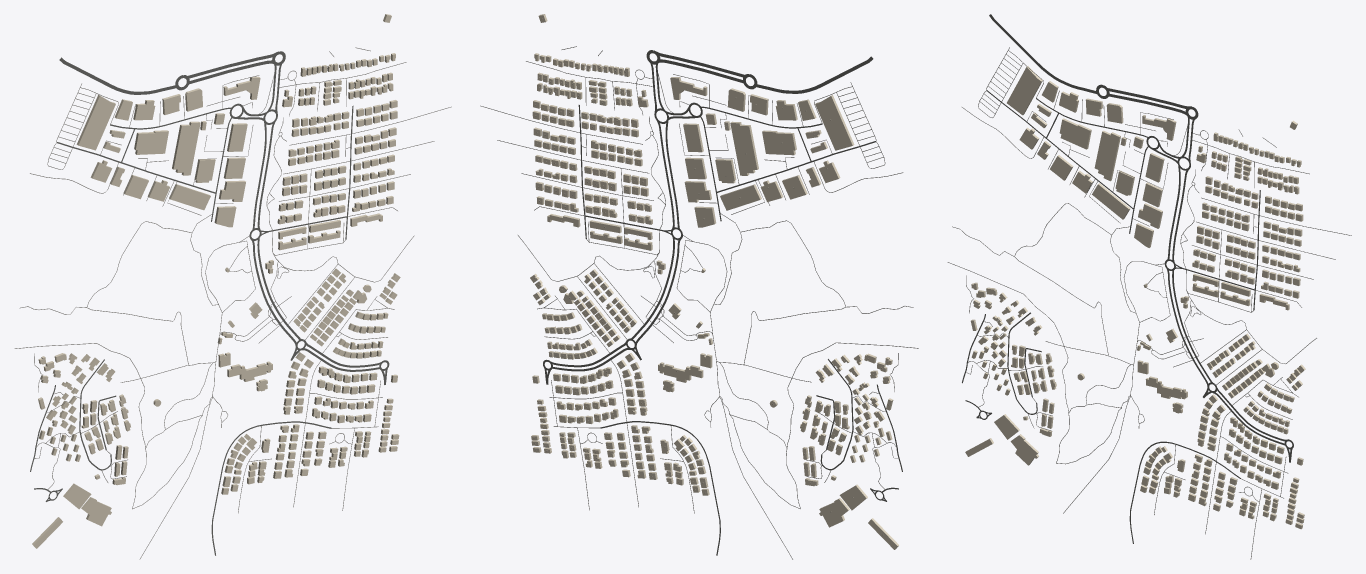
The model's file is historic-palestine-08_28_3498_3221.glb.
The picture shows the model from 3 angles, left to right: view 1: azimuth 30°, elevation 25°; view 2: azimuth 150°, elevation 25°; view 3: azimuth 330°, elevation 25°; orthographic projection. The views are drawn at different scales.
Parts seen in each view (by area): view 1: Building_.008, Building_.010, Building_.009, Building_.013, Building_.023, Building_.359; view 2: Building_.008, Building_.010, Building_.009, Building_.013, Building_.023; view 3: Building_.008, Building_.010, Building_.009, Building_.013.
Boxes of the visible parts, x1,y1,x2,y2 form: Building_.008: (76,95,115,150); Building_.010: (172,121,200,175); Building_.009: (134,130,168,154); Building_.013: (169,184,210,210); Building_.023: (227,361,272,381); Building_.359: (81,497,111,526); Building_.008: (815,95,854,150); Building_.010: (730,121,758,175); Building_.009: (762,130,796,155); Building_.013: (720,184,761,210); Building_.023: (658,362,703,382); Building_.008: (1007,66,1042,115); Building_.010: (1094,130,1120,181); Building_.009: (1059,118,1091,149); Building_.013: (1092,183,1130,219).
Bounding box in the file's own units: 1162 × 1360 × 8.7.
